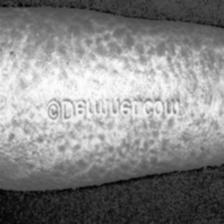Non-Cancerous Skin Condition: (10, 22, 166, 96), (50, 124, 160, 174)
